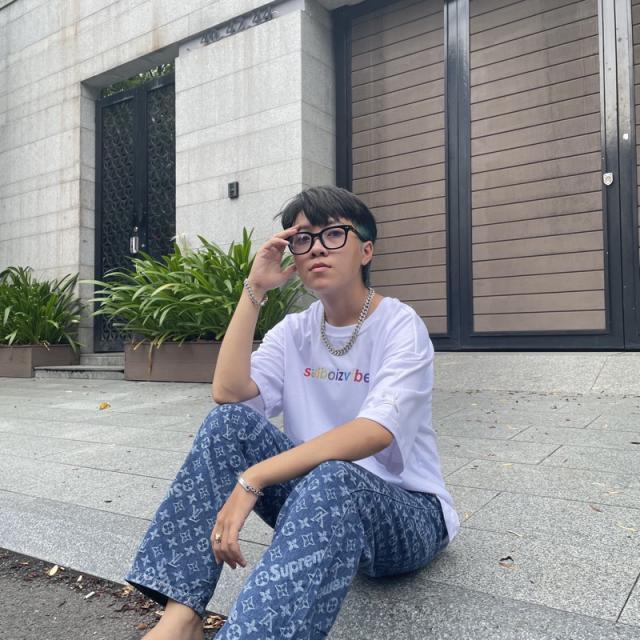Shirt: (248, 299, 471, 491)
